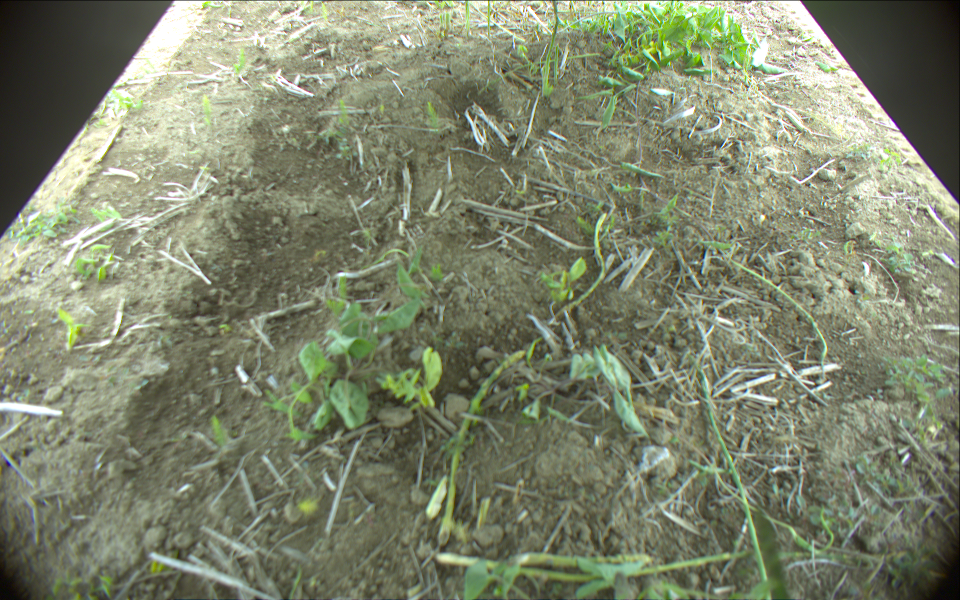aspa: (440, 349, 524, 547), (704, 379, 773, 600), (726, 258, 829, 370), (436, 553, 734, 584), (557, 212, 609, 320), (481, 54, 598, 96), (542, 1, 559, 93), (552, 42, 561, 86), (484, 1, 491, 38), (463, 1, 471, 32)
